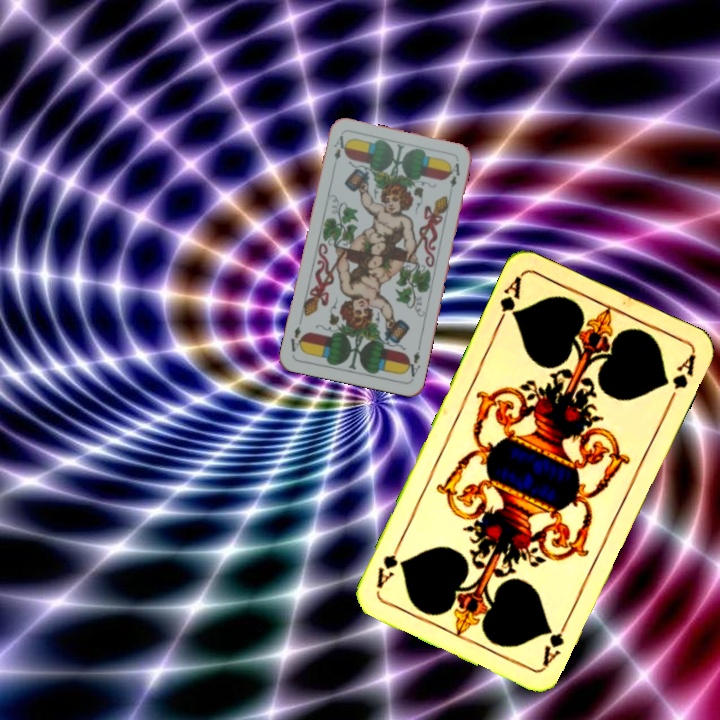EA: (402, 341, 423, 379), (330, 131, 348, 163)
GA: (538, 614, 572, 669), (493, 272, 525, 329)
